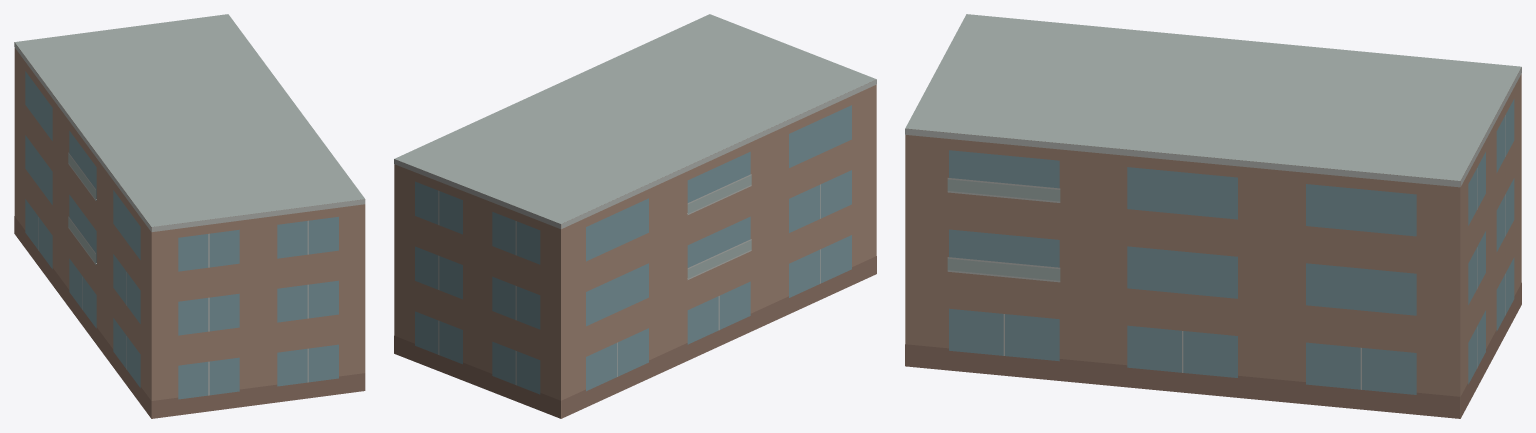
Rendered from survey-upis-32797709.glb.
3 views of the same model, side by side, from view 1: azimuth 30°, elevation 25°; view 2: azimuth 150°, elevation 25°; view 3: azimuth 270°, elevation 25° (orthographic). The views are drawn at different scales.
Parts seen in each view (by area): view 1: survey-upis-32797709.tmp; view 2: survey-upis-32797709.tmp; view 3: survey-upis-32797709.tmp.
Boxes of the visible parts, <box> form: survey-upis-32797709.tmp: <box>14,14,365,418</box>; survey-upis-32797709.tmp: <box>394,14,876,418</box>; survey-upis-32797709.tmp: <box>905,14,1521,418</box>.
Bounding box in the file's own units: 13.79 × 9.15 × 21.51.
